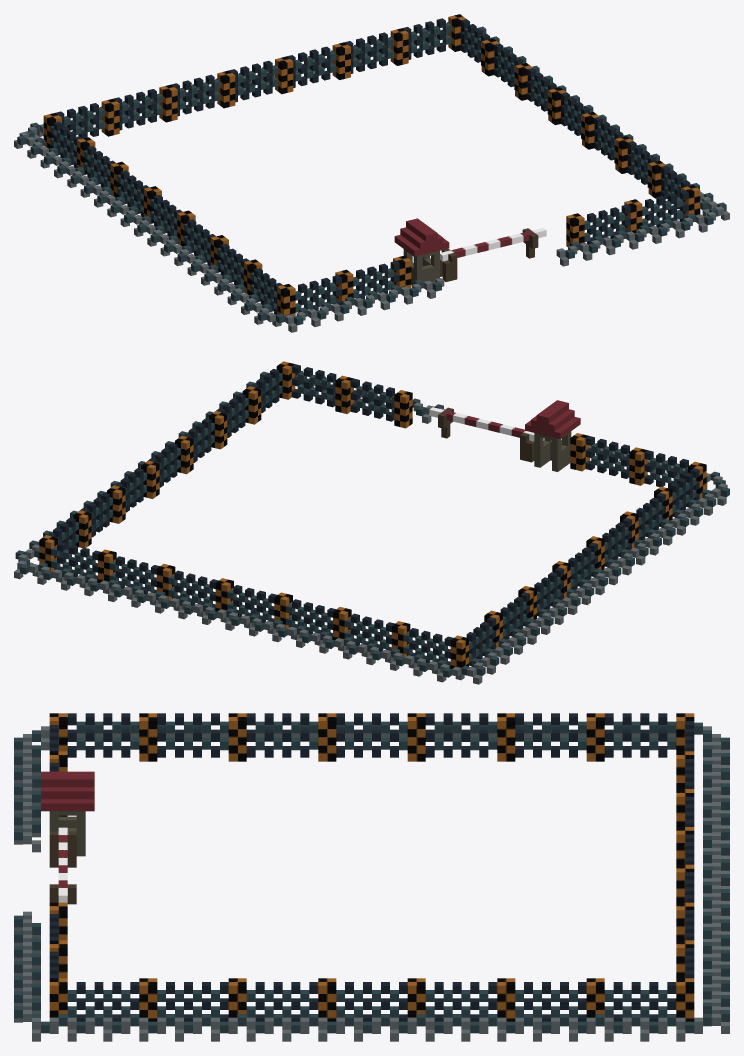
File: wired_fence_overtile.glb
The picture shows the model from 3 angles, top to bottom: view 1: azimuth 30°, elevation 25°; view 2: azimuth 150°, elevation 25°; view 3: azimuth 270°, elevation 25°; orthographic projection. The views are drawn at different scales.
Parts seen in each view (by area): view 1: wired_fence_overtile; view 2: wired_fence_overtile; view 3: wired_fence_overtile.
Boxes of the visible parts, x1,y1,x2,y2 form: wired_fence_overtile: [14, 14, 729, 332]; wired_fence_overtile: [14, 361, 729, 684]; wired_fence_overtile: [14, 713, 729, 1041].
Size of the model in its own units: 8 by 0.9 by 8.
Materials: 1 (1 with a texture image).
